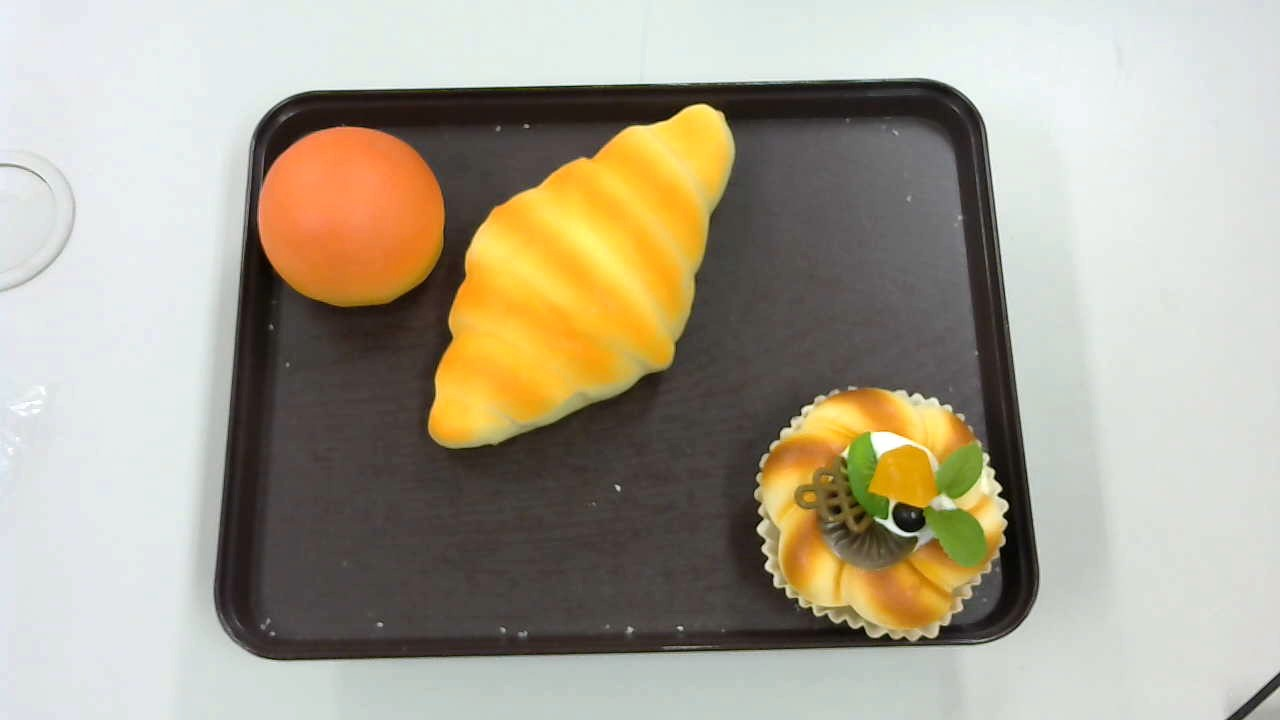bun: (256, 125, 444, 308)
croissant: (426, 102, 736, 450)
fruit tart: (754, 387, 1008, 639)
